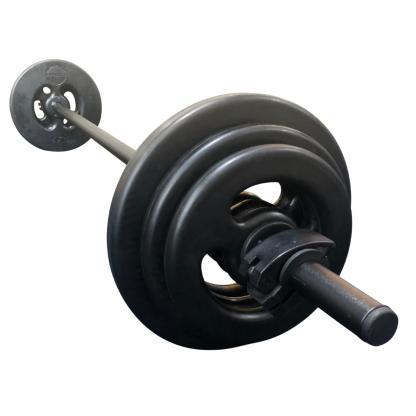Barbell: (99, 89, 360, 364)
